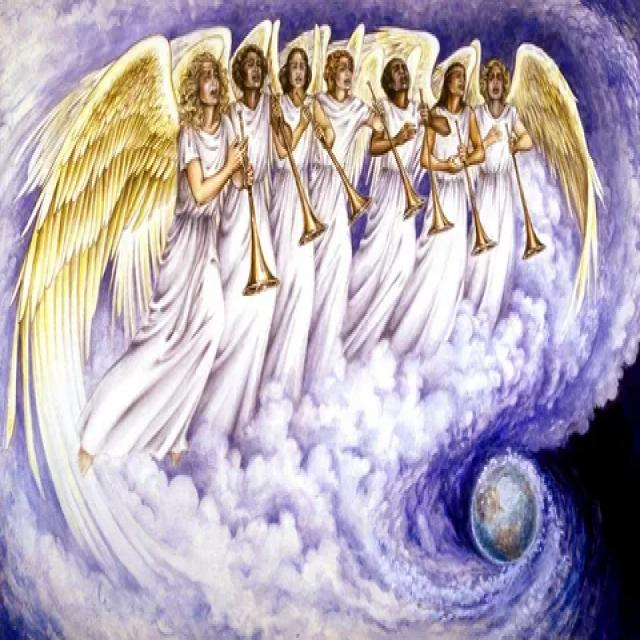angel: (21, 31, 278, 440)
